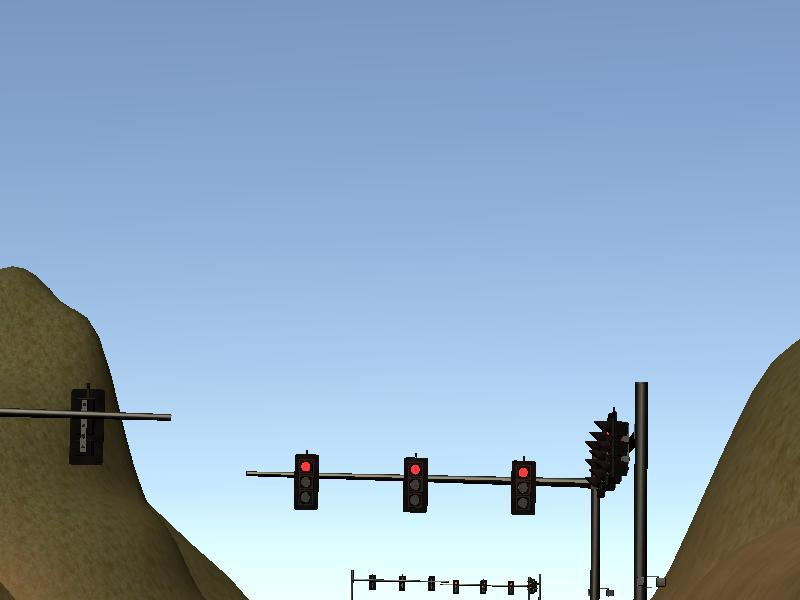Red: (512, 461, 535, 513), (295, 454, 317, 507), (406, 459, 428, 512)
